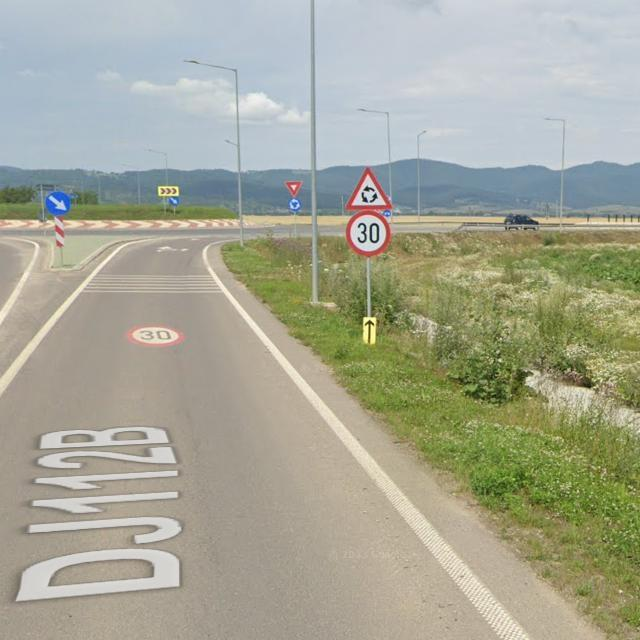forb_speed_over_30: (345, 208, 390, 257), (127, 324, 185, 351)
prio_give_way: (285, 178, 306, 197)
